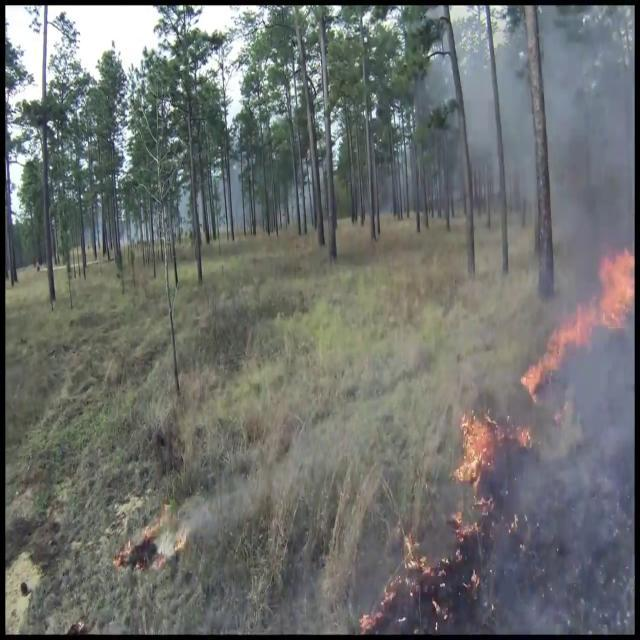Fire: (518, 305, 590, 395), (446, 397, 499, 485), (594, 235, 634, 332)
Smoke: (504, 9, 634, 625)
